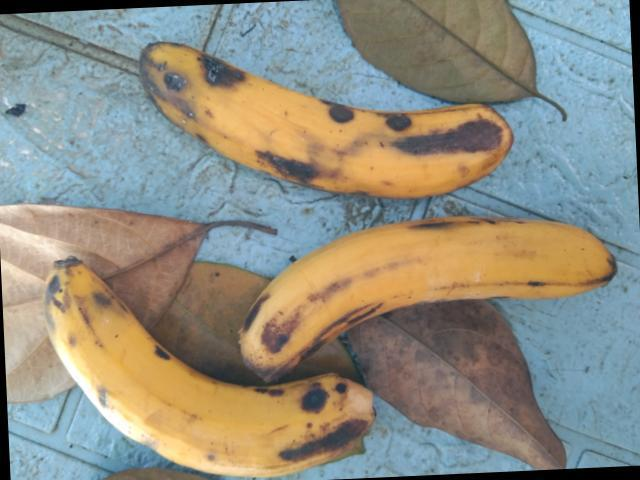overripe: (119, 28, 524, 218)
ripe: (40, 263, 396, 479), (193, 214, 614, 365)
